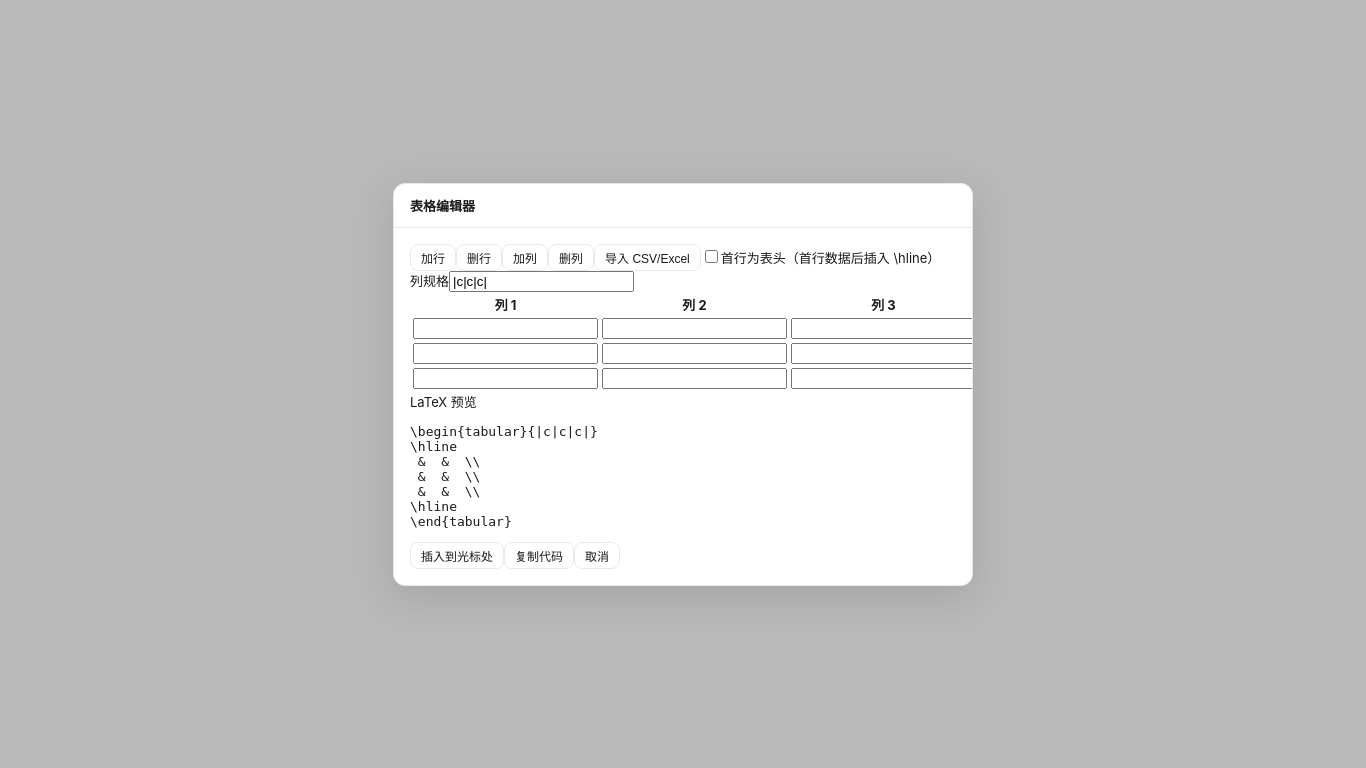
it: TableEditor › 插入失败：提示原因并保持打开
Click the button with class "sf-btn" showing "插入到光标处".
click(457, 555)  # box x1=410 y1=542 x2=504 y2=568
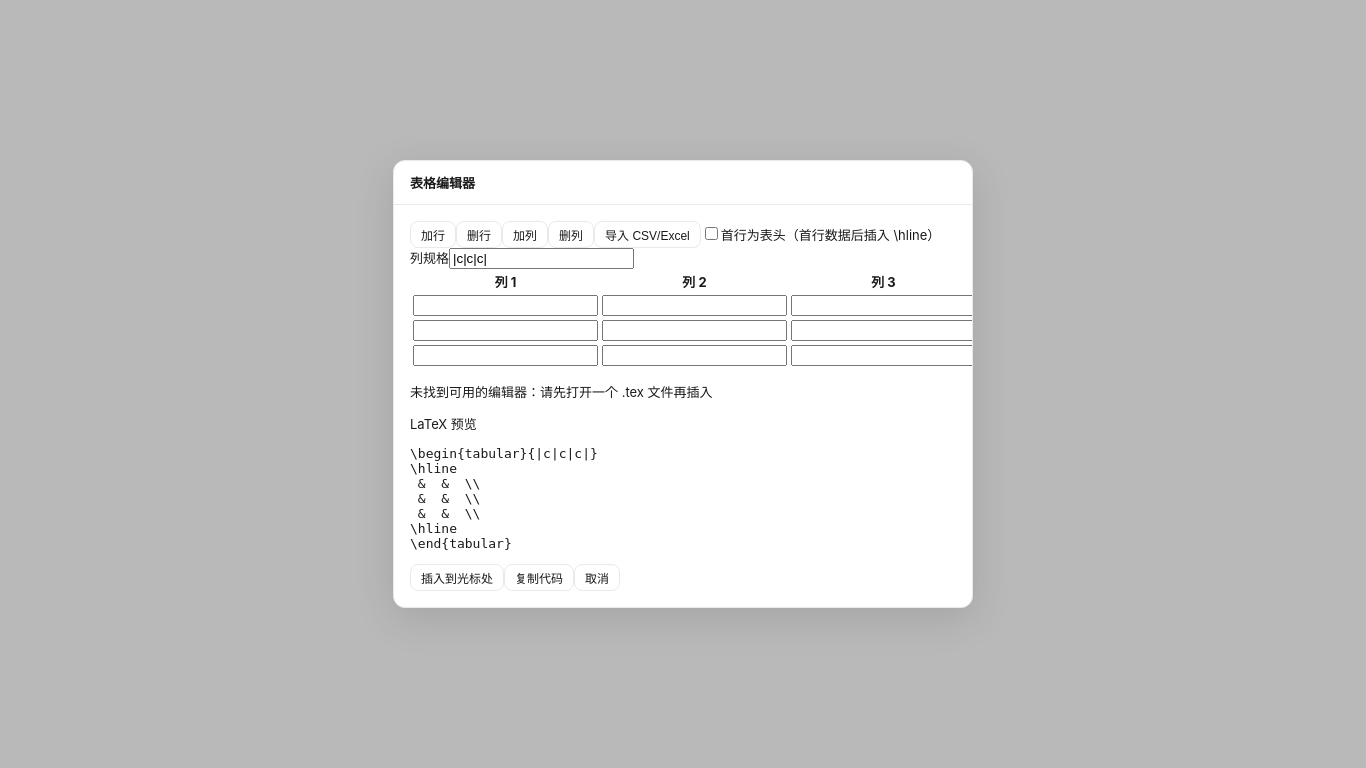
Expected: the dialog with class "sf-table-dialog" is shown, x1=393 y1=160 x2=973 y2=608
Result: the message with class "sf-table-hint" shows "请先打开" at x1=410 y1=384 x2=713 y2=400
